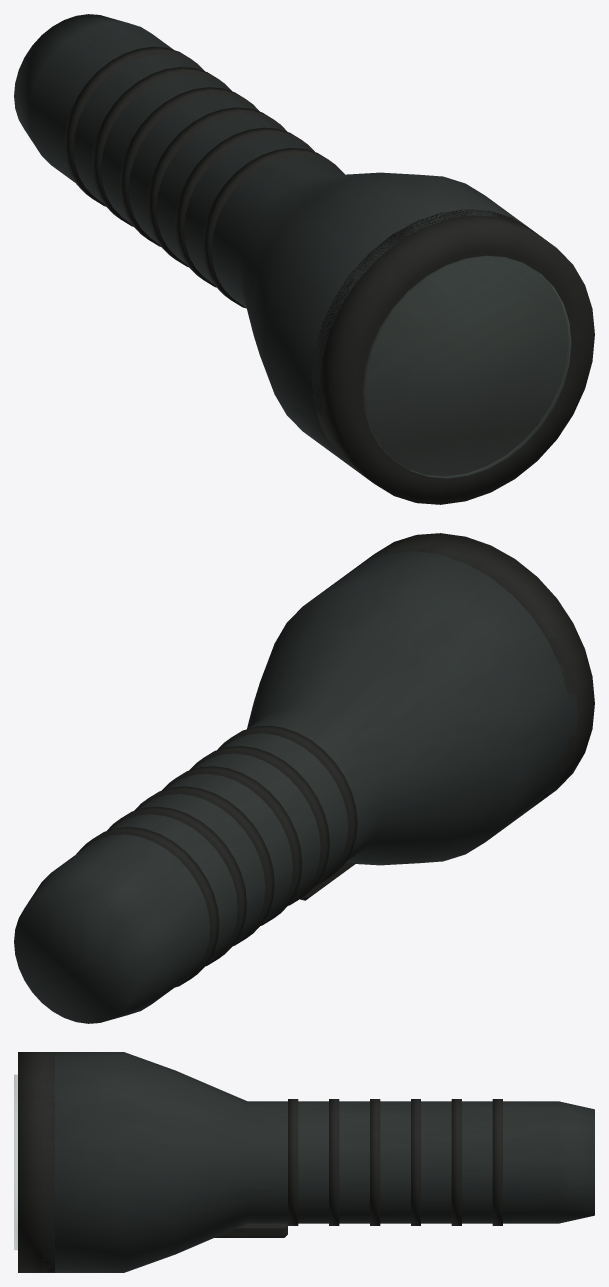
File: hand_flashlight.glb
The picture shows the model from 3 angles, top to bottom: view 1: azimuth 30°, elevation 25°; view 2: azimuth 150°, elevation 25°; view 3: azimuth 270°, elevation 25°; orthographic projection. The views are drawn at different scales.
Visible parts, largest first — view 1: Bezel, Body, Lens, Grip.005, Grip.003, Grip.001, Grip, Grip.004, Grip.002; view 2: Body, Bezel, Grip, Grip.005, Grip.003, Grip.002, Grip.004, Grip.001; view 3: Body, Bezel, Grip, Grip.001, Grip.003, Grip.004, Grip.005, Grip.002, Switch, Lens.
Boxes of the visible parts, x1,y1,x2,y2 form: Bezel: (312, 209, 594, 504); Body: (14, 14, 532, 470); Lens: (363, 256, 570, 478); Grip.005: (202, 148, 344, 308); Grip.003: (147, 107, 287, 266); Grip.001: (92, 67, 232, 226); Grip: (64, 46, 204, 206); Grip.004: (174, 127, 314, 287); Grip.002: (119, 87, 259, 246); Body: (14, 545, 578, 1023); Bezel: (359, 533, 594, 807); Grip: (76, 827, 219, 987); Grip.005: (217, 725, 357, 885); Grip.003: (162, 766, 302, 925); Grip.002: (134, 786, 274, 945); Grip.004: (189, 746, 329, 905); Grip.001: (107, 806, 246, 965); Body: (42, 1052, 594, 1272); Bezel: (18, 1052, 54, 1272); Grip: (492, 1099, 502, 1225); Grip.001: (451, 1099, 461, 1225); Grip.003: (370, 1099, 380, 1225); Grip.004: (329, 1099, 339, 1225); Grip.005: (288, 1099, 298, 1225); Grip.002: (411, 1099, 420, 1225); Switch: (214, 1223, 287, 1237); Lens: (14, 1075, 17, 1249).
Bounding box in the file's own units: 0.108 × 0.108 × 0.284.
Materials: 4 (4 with a texture image).
